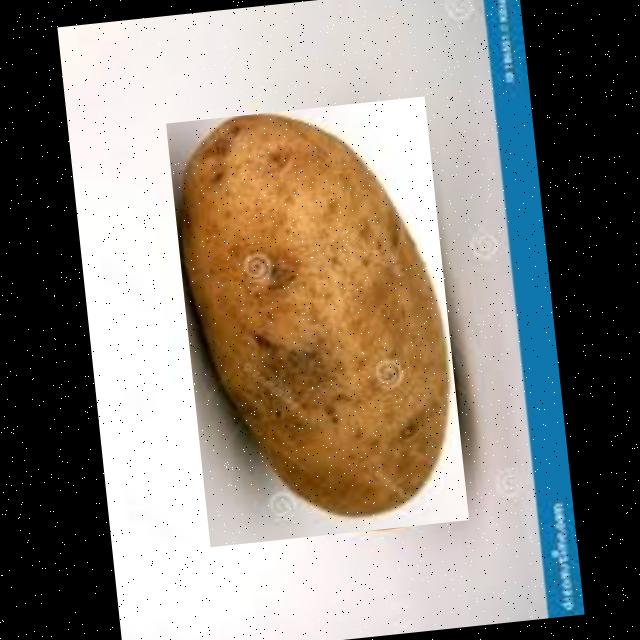Potato: (165, 95, 468, 546)
